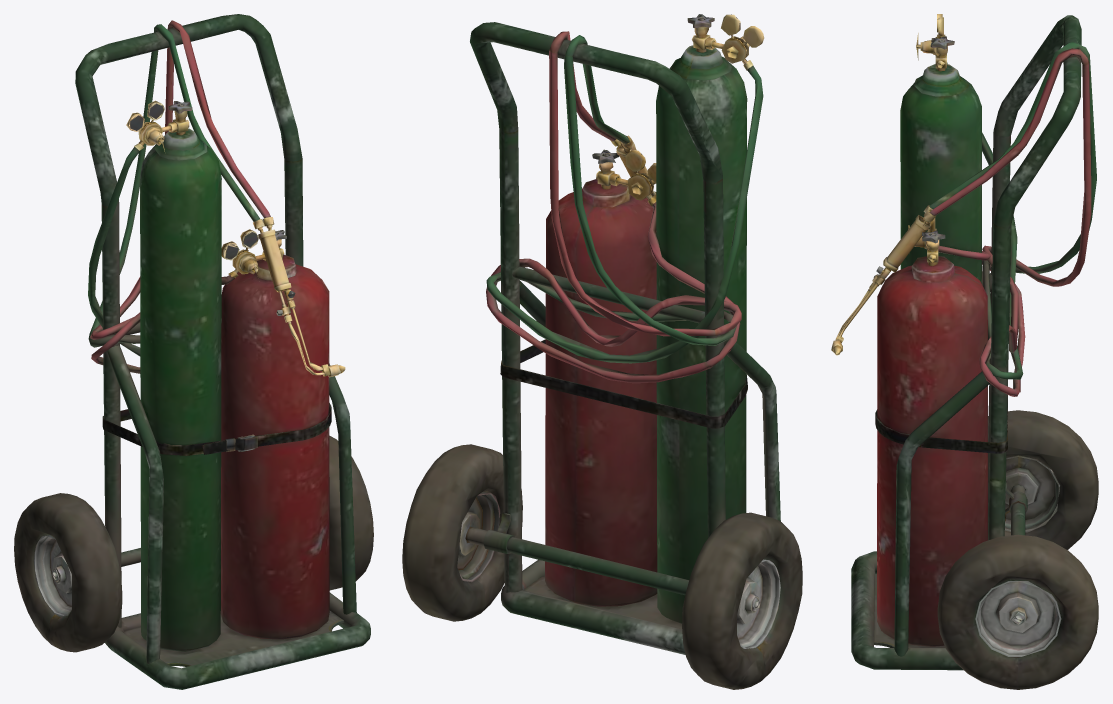
File: portable_welding_cart.glb
3 views of the same model, side by side, from view 1: azimuth 30°, elevation 25°; view 2: azimuth 150°, elevation 25°; view 3: azimuth 270°, elevation 25° (orthographic). The views are drawn at different scales.
Visible parts, largest first — view 1: portable_welding_cart; view 2: portable_welding_cart; view 3: portable_welding_cart.
Part boxes in pixels (x1,y1,x2,y2): portable_welding_cart: [14, 14, 373, 689]; portable_welding_cart: [402, 14, 802, 689]; portable_welding_cart: [831, 14, 1098, 689].
Bounding box in the file's own units: 0.8365 × 1.56 × 0.6549.
2 materials, 2 textured.
